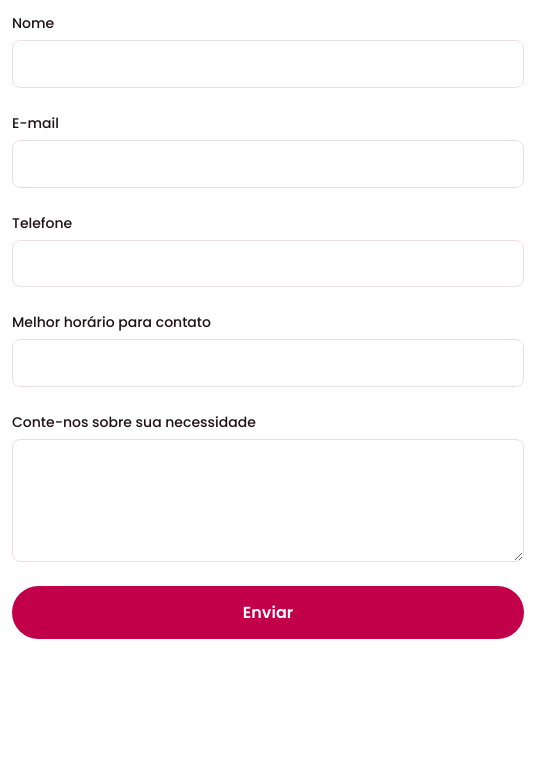
Scenario: ContactForm › submits and shows the 36h confirmation message when all fields are valid
Type "Visitante Teste" into the field labelled "Nome" at (268, 64), box top-left (12, 40), bottom-right (524, 88)
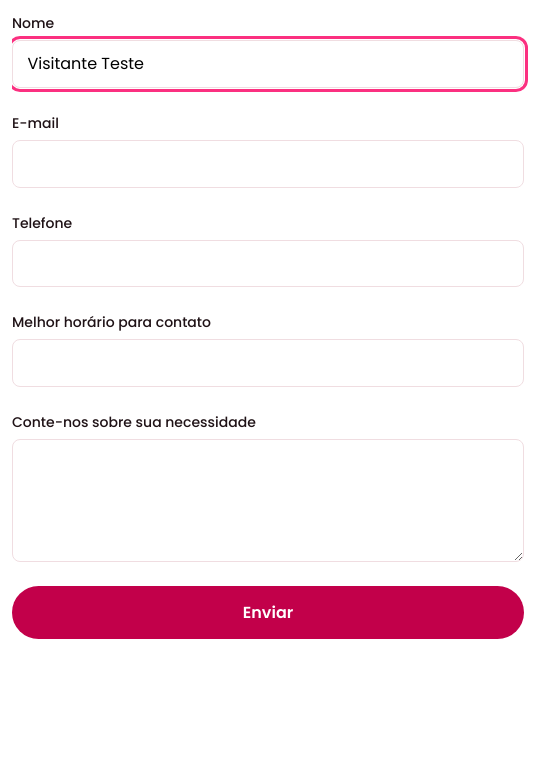
Type "visitante@example.com" into the field labelled "E-mail" at (268, 164), box top-left (12, 140), bottom-right (524, 188)
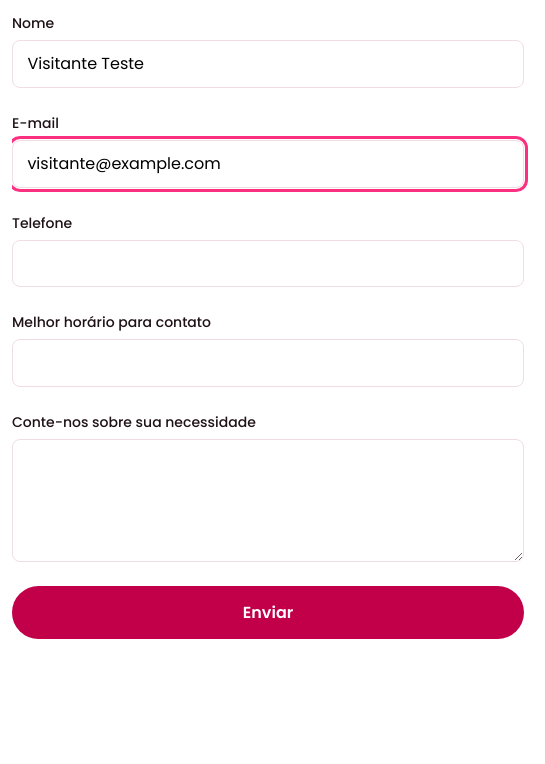
Type "(21) 91234-5678" into the field labelled "Telefone" at (268, 263), box top-left (12, 240), bottom-right (524, 287)
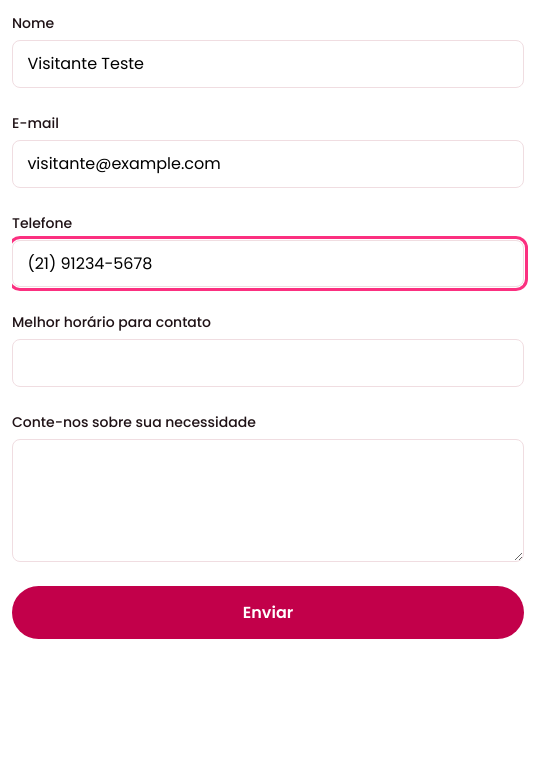
Type "Manhã" into the field labelled "Melhor horário para contato" at (268, 363), box top-left (12, 339), bottom-right (524, 387)
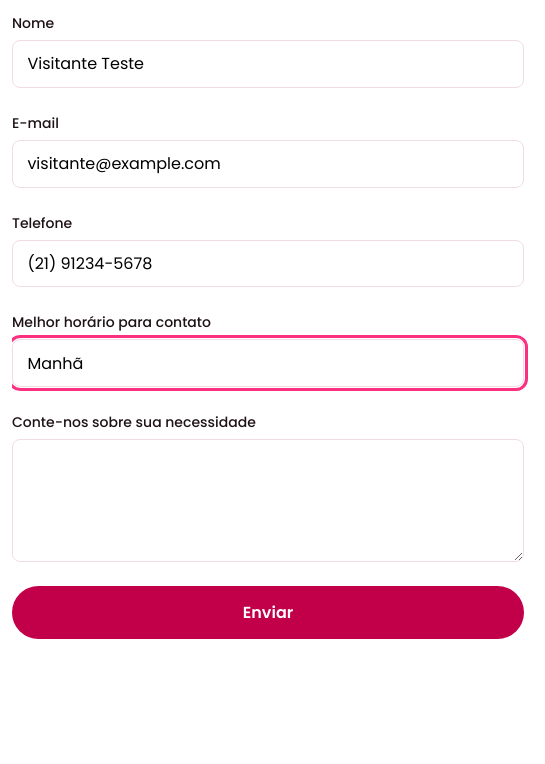
Type "Gostaria de saber mais sobre a liga." into the text box labelled "Conte-nos sobre sua necessidade" at (268, 500), box top-left (12, 439), bottom-right (524, 562)
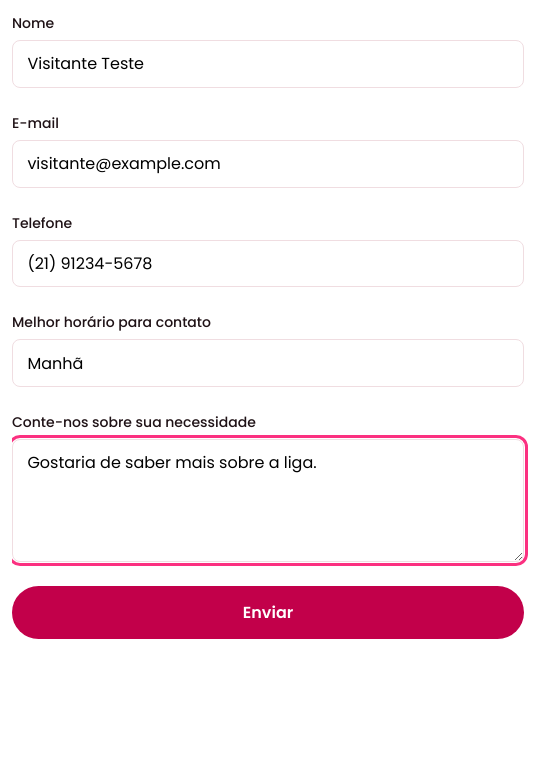
Click the button "Enviar" at (268, 612), box top-left (12, 586), bottom-right (524, 639)
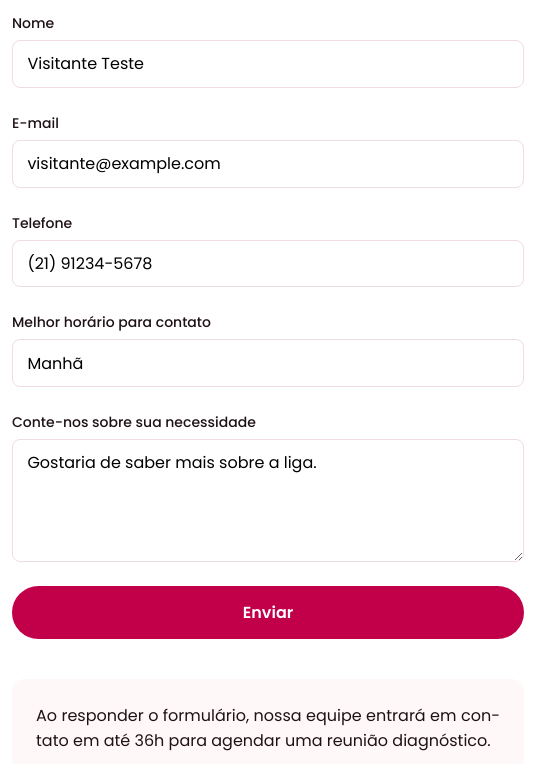
Check: the text "entrará em contato em até 36h" is shown, box top-left (36, 704), bottom-right (500, 752)
